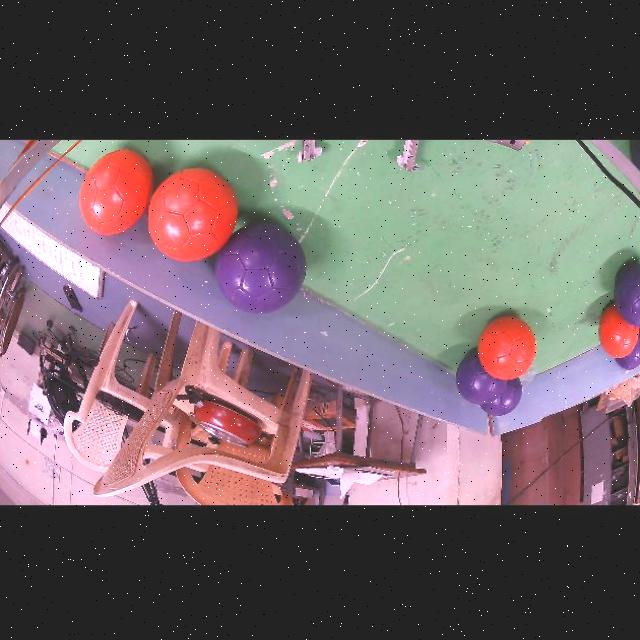P: (215, 223, 306, 314), (456, 350, 507, 406), (614, 264, 640, 328), (480, 379, 522, 417), (615, 329, 640, 372)
R: (148, 168, 238, 262), (79, 151, 153, 236), (478, 317, 536, 380), (598, 304, 640, 359)
